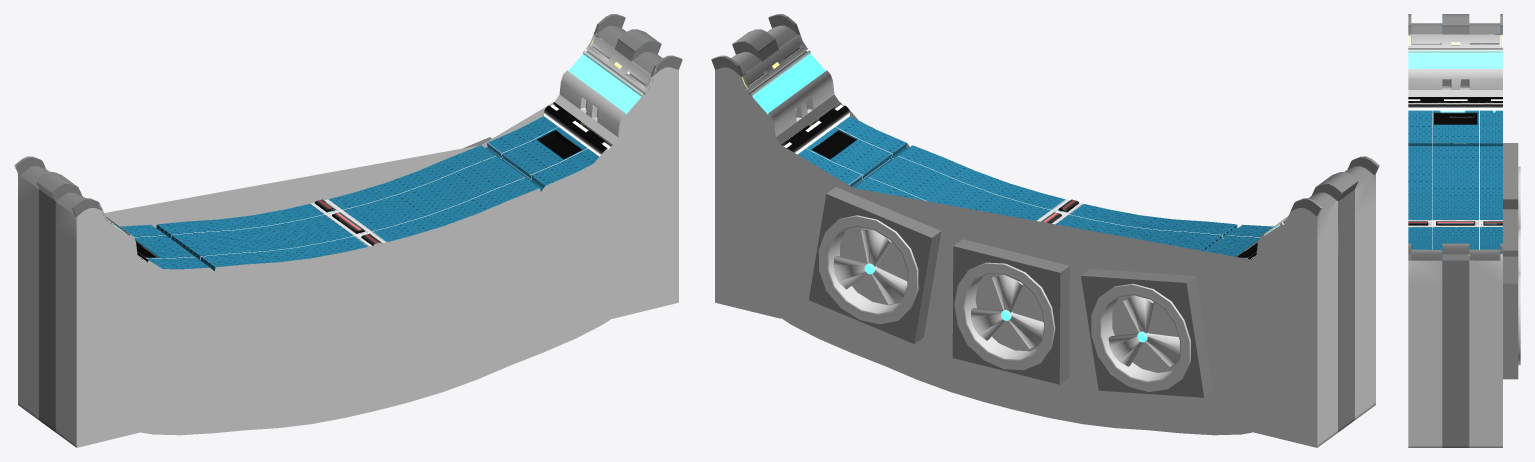
File: Vent_Tile V2.fbx
3 renders of one model, left to right at view 1: azimuth 30°, elevation 25°; view 2: azimuth 150°, elevation 25°; view 3: azimuth 270°, elevation 25°, orthographic. The views are drawn at different scales.
Visible parts, largest first — view 1: Road; view 2: Road; view 3: Road.
Boxes of the visible parts, <box> form: Road: <box>14,14,682,447</box>; Road: <box>711,14,1379,447</box>; Road: <box>1408,14,1520,447</box>.
Bounding box in the file's own units: 649 × 287 × 128.
